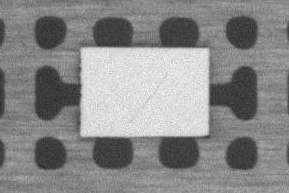DIE_CRACK: (127, 74, 166, 122)
